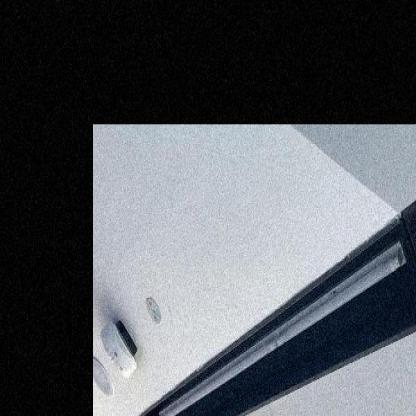light_off: (149, 236, 413, 415)
